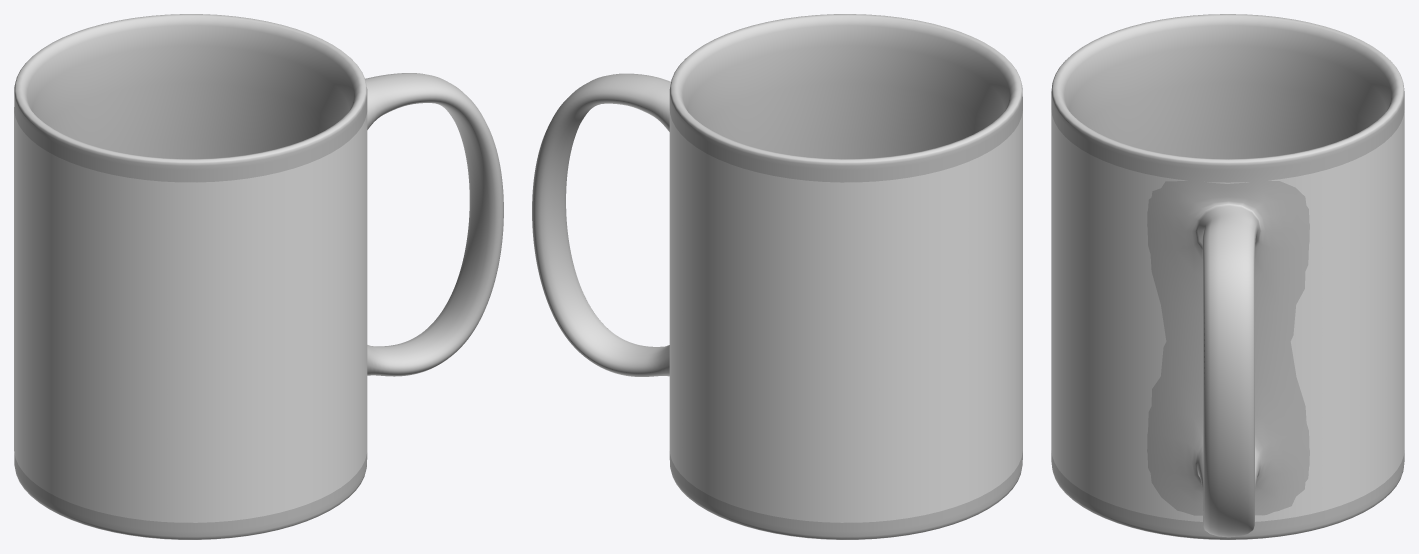
File: mug-empty.glb
3 renders of one model, left to right at view 1: azimuth 30°, elevation 25°; view 2: azimuth 150°, elevation 25°; view 3: azimuth 270°, elevation 25°, orthographic.
Parts seen in each view (by area): view 1: Motif, Mug; view 2: Motif, Mug; view 3: Mug, Motif.
Boxes of the visible parts, x1,y1,x2,y2 form: Motif: (14, 107, 367, 522); Mug: (14, 14, 503, 539); Motif: (669, 111, 1022, 522); Mug: (532, 14, 1022, 539); Mug: (1051, 14, 1404, 539); Motif: (1051, 110, 1404, 521).
Size of the model in its own units: 0.1203 by 0.095 by 0.08.
3 materials, 1 textured.
